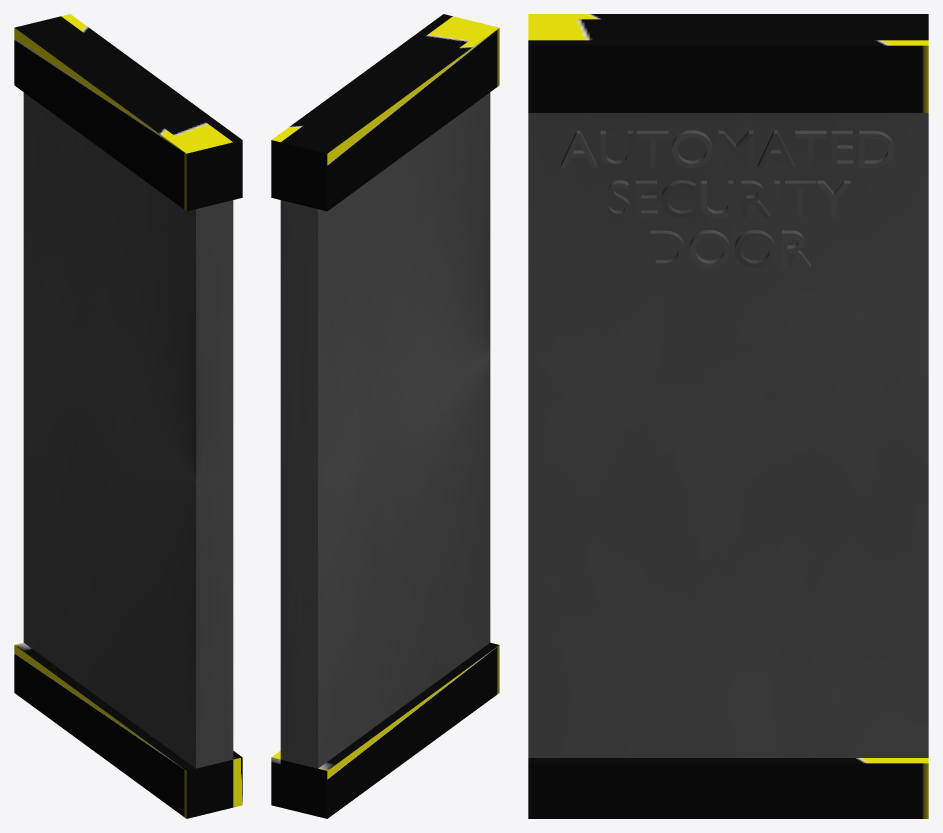
Rendered from door.fbx.
The picture shows the model from 3 angles, left to right: view 1: azimuth 30°, elevation 25°; view 2: azimuth 150°, elevation 25°; view 3: azimuth 270°, elevation 25°; orthographic projection. The views are drawn at different scales.
Parts seen in each view (by area): view 1: Door; view 2: Door; view 3: Door.
Part boxes in pixels (x1,y1,x2,y2): Door: [14, 14, 242, 818]; Door: [271, 14, 499, 818]; Door: [528, 14, 928, 818].
Bounding box in the file's own units: 30 × 341 × 160.
